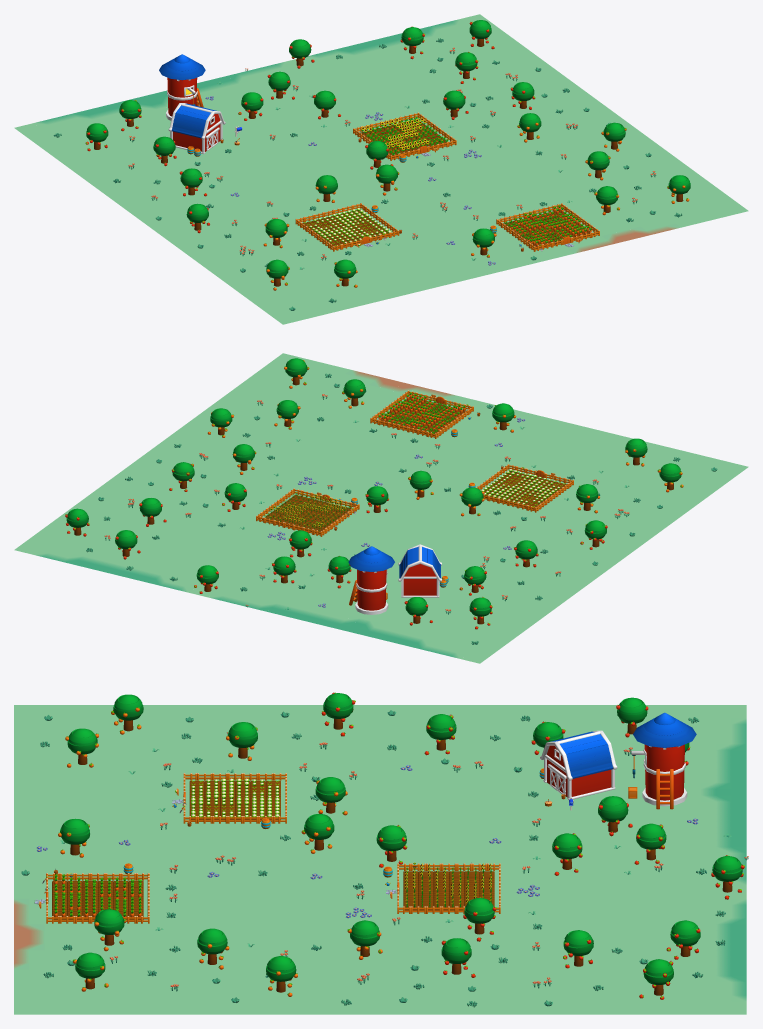
File: Plains-transformed.glb
3 renders of one model, top to bottom at view 1: azimuth 30°, elevation 25°; view 2: azimuth 150°, elevation 25°; view 3: azimuth 270°, elevation 25°, orthographic. The views are drawn at different scales.
Parts seen in each view (by area): view 1: square_rock2, 3D_Tile_Farm_Field_012, Farm_Crop_Cauliflower_Step_039, 3D_Tile_Farm_Field_01, Farm_House_Barn_01, Farm_House_Silo_01; view 2: square_rock2, 3D_Tile_Farm_Field_012, 3D_Tile_Farm_Field_01, Farm_Crop_Cauliflower_Step_039, Farm_House_Silo_01, Farm_House_Barn_01; view 3: square_rock2, Farm_Crop_Cauliflower_Step_039, 3D_Tile_Farm_Field_012, 3D_Tile_Farm_Field_01, Farm_House_Silo_01, Farm_House_Barn_01, Farm_Crop_Tree_0219, Farm_Crop_Tree_0213, Farm_Crop_Tree_0210, Farm_Crop_Tree_0211, Farm_Crop_Tree_0216, Farm_Crop_Tree_028 (+19 smaller).
Part boxes in pixels (box(x1,y1,x2,y2)): square_rock2: box(14, 14, 748, 324); 3D_Tile_Farm_Field_012: box(496, 203, 599, 251); Farm_Crop_Cauliflower_Step_039: box(295, 203, 399, 251); 3D_Tile_Farm_Field_01: box(353, 112, 456, 160); Farm_House_Barn_01: box(168, 103, 225, 153); Farm_House_Silo_01: box(159, 54, 205, 120); square_rock2: box(14, 353, 748, 663); 3D_Tile_Farm_Field_012: box(370, 390, 473, 438); 3D_Tile_Farm_Field_01: box(256, 488, 359, 536); Farm_Crop_Cauliflower_Step_039: box(476, 464, 573, 512); Farm_House_Silo_01: box(348, 546, 394, 614); Farm_House_Barn_01: box(398, 544, 441, 597); square_rock2: box(14, 705, 746, 1014); Farm_Crop_Cauliflower_Step_039: box(172, 773, 286, 823); 3D_Tile_Farm_Field_012: box(34, 873, 149, 923); 3D_Tile_Farm_Field_01: box(385, 862, 500, 913); Farm_House_Silo_01: box(631, 712, 696, 809); Farm_House_Barn_01: box(540, 730, 617, 799); Farm_Crop_Tree_0219: box(111, 694, 143, 734); Farm_Crop_Tree_0213: box(321, 692, 355, 736); Farm_Crop_Tree_0210: box(441, 938, 475, 977); Farm_Crop_Tree_0211: box(463, 897, 496, 941); Farm_Crop_Tree_0216: box(301, 814, 334, 853); Farm_Crop_Tree_028: box(711, 855, 744, 899).
Bounding box in the file's own units: 96 × 12.74 × 96.31.
10 materials, 7 textured.
